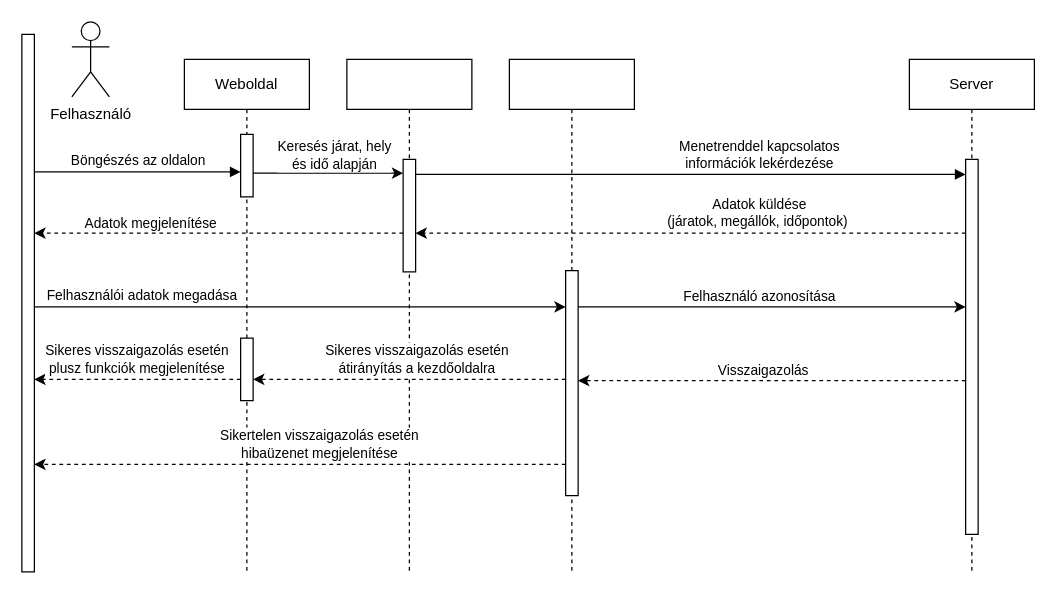
The diagram is 1056 pixels wide and 594 high, and some of its shapes have lost their labels. Each missing label, with the box of its shape:
Bejelentkezés/ Regisztráció: (508, 58, 634, 572)
Menetrend oldal: (346, 58, 472, 572)
